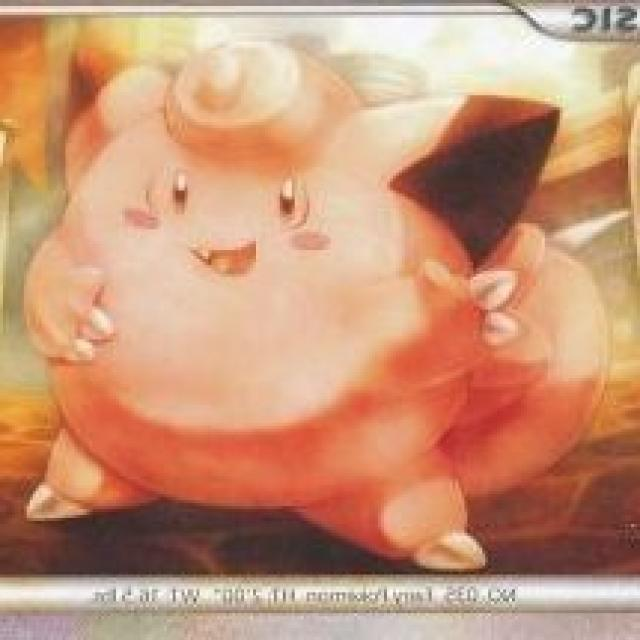Clefairy: (43, 42, 491, 519)
